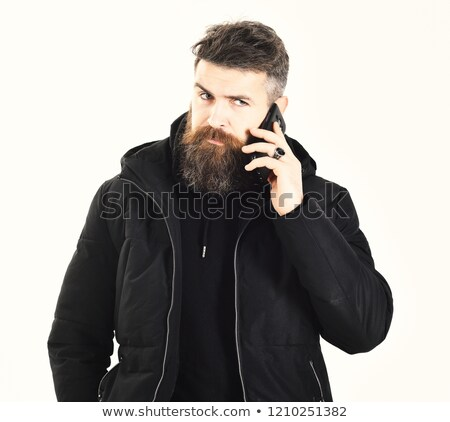phone: (251, 106, 293, 187)
talk: (191, 81, 301, 212)
